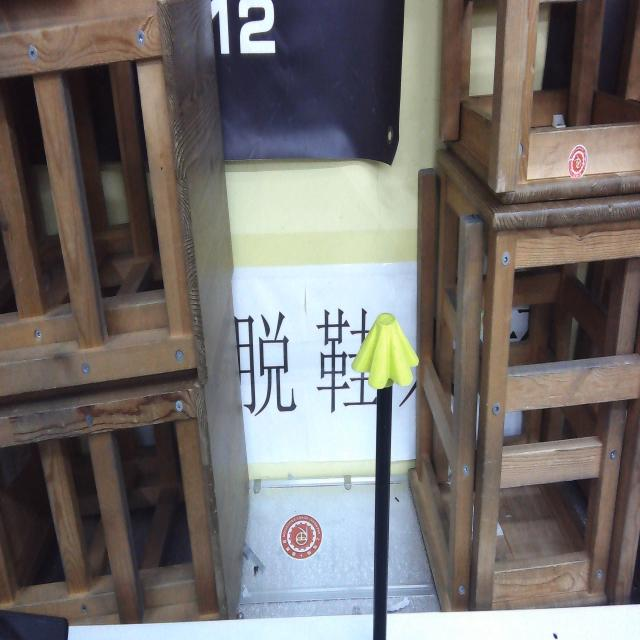Yellow-Stake-Head: (352, 313, 419, 390)
